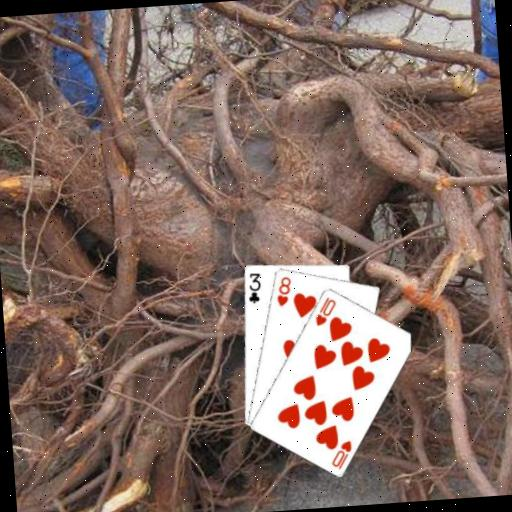10H: (327, 437, 356, 471), (311, 294, 339, 328)
3C: (244, 269, 264, 305)
8H: (273, 273, 294, 308)
